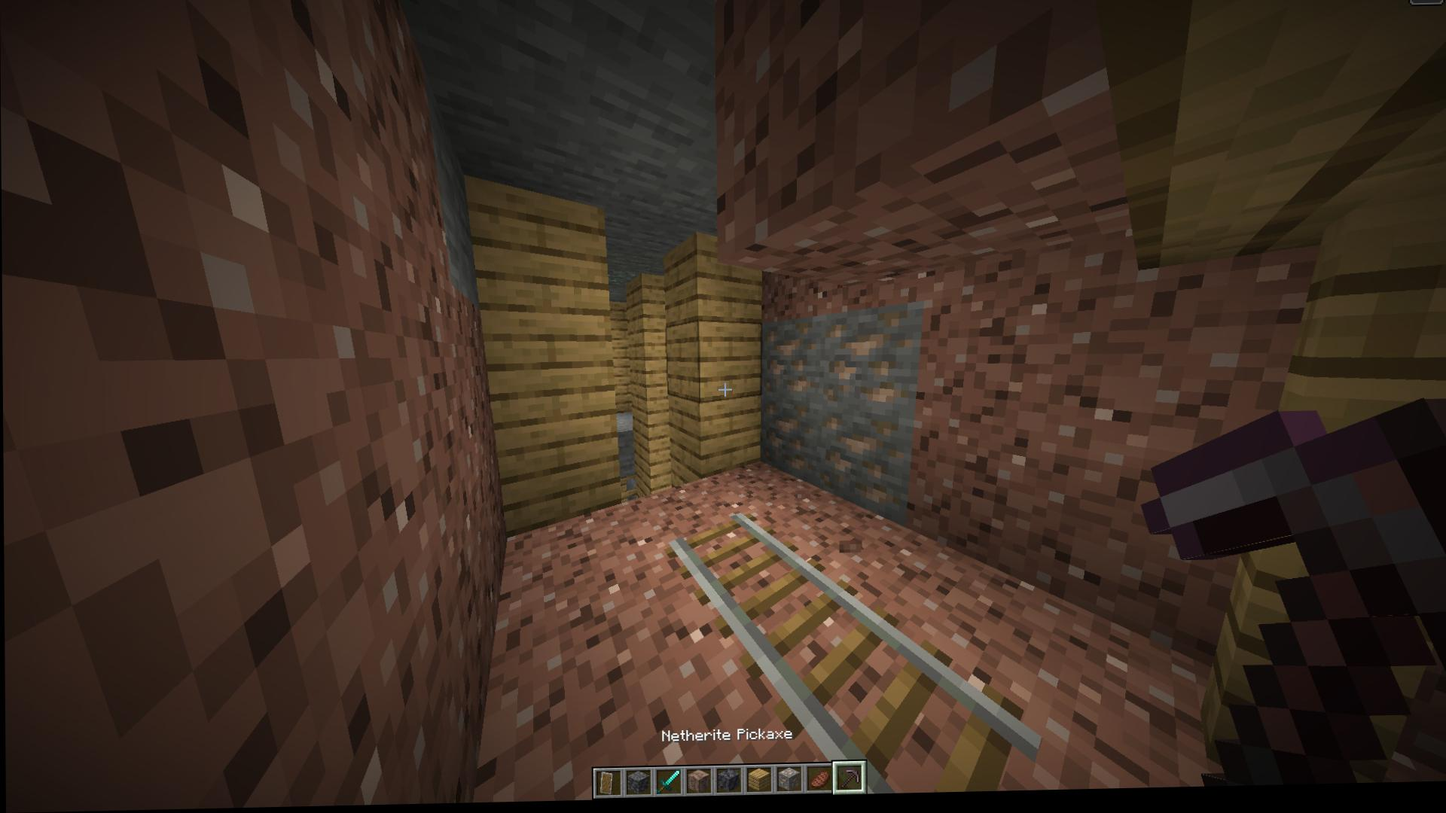iron ore: (815, 319, 914, 415), (813, 408, 896, 514), (753, 400, 817, 473), (760, 326, 817, 400)
